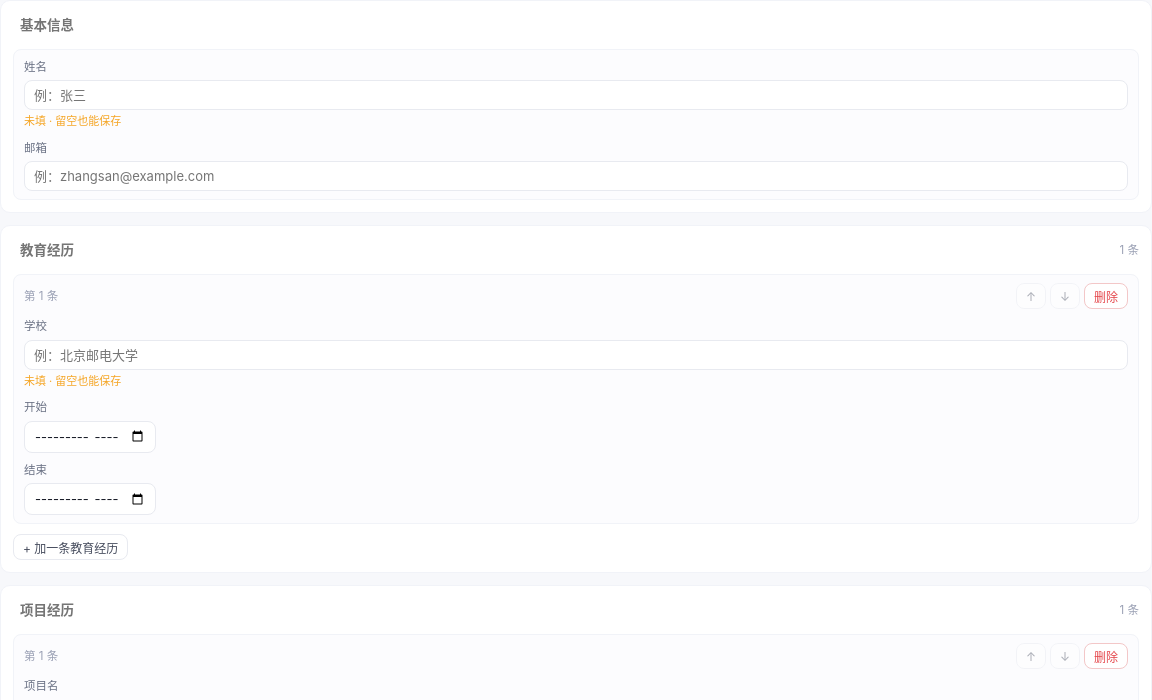
Test: SchemaForm（jsdom） › 板块里一条不剩时只剩「+ 加一条」，不崩、不留空白卡片
Click the button named "删除第 1 条": click(1106, 296) [1084,283,1128,309]
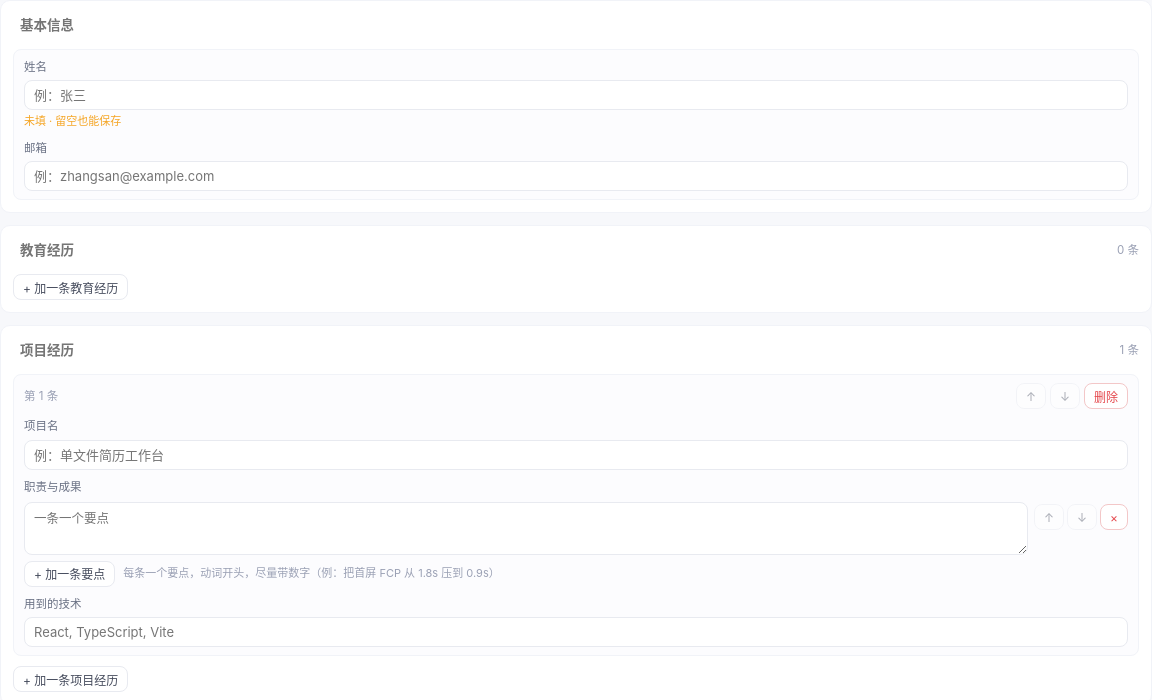
Expected: no fields with placeholder "例：北京邮电大学" are shown
Click the 1st button with class "resume-form__add": click(71, 287) [13,274,128,300]
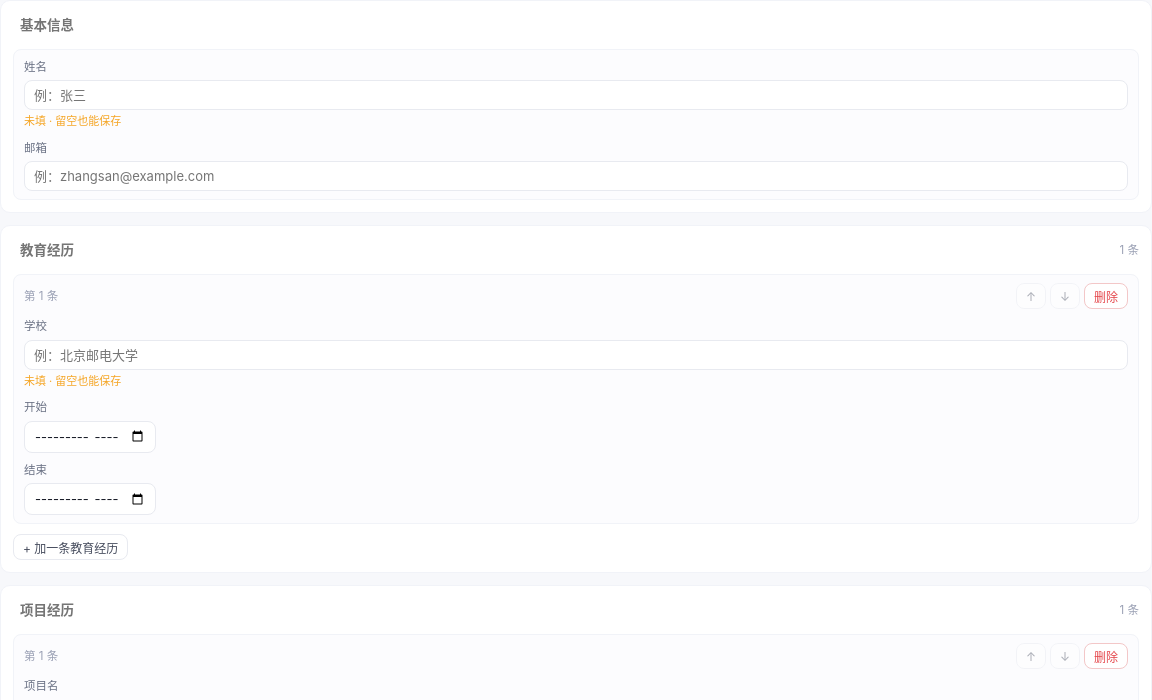
Expected: the number of fields with placeholder "例：北京邮电大学" is 1, [24,340,1128,370]
